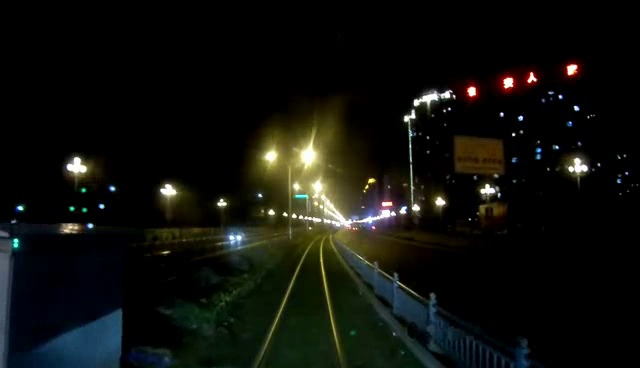car: (227, 231, 249, 245)
